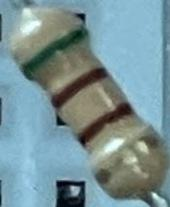Brown: (48, 63, 113, 114), (73, 99, 139, 149)
Green: (18, 22, 91, 81)
Side-Gold: (91, 129, 168, 188)
